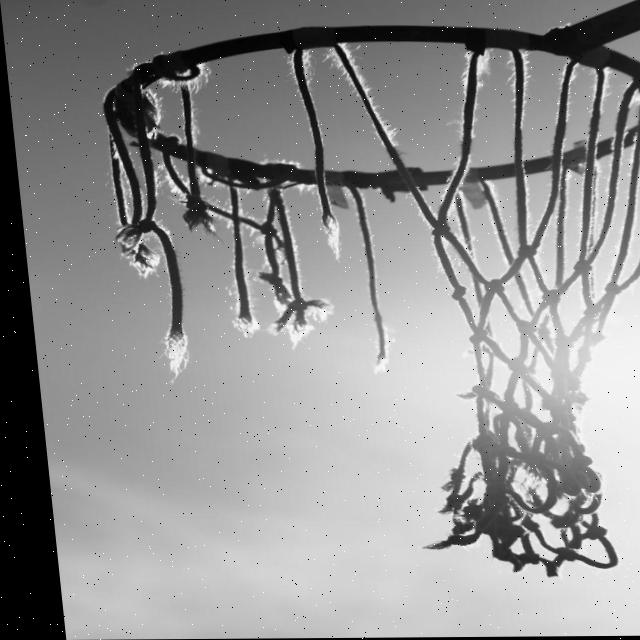hoop: (63, 37, 640, 555)
